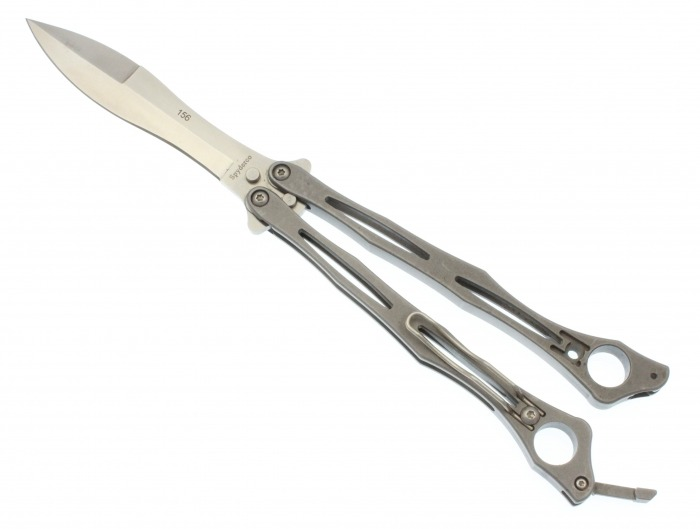knife: (21, 13, 675, 513)
